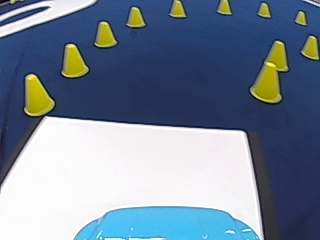cone: (249, 53, 282, 102), (22, 73, 54, 116), (59, 42, 88, 77), (263, 39, 289, 71), (93, 20, 117, 47), (300, 34, 319, 59), (125, 5, 145, 27), (169, 0, 185, 18), (256, 2, 271, 18), (216, 0, 231, 15), (294, 10, 306, 24)
